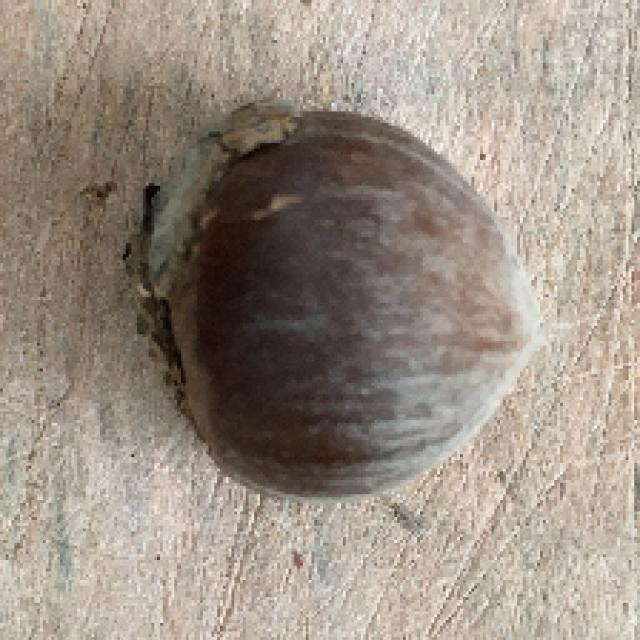damagedHazelnut: (136, 102, 549, 506)
